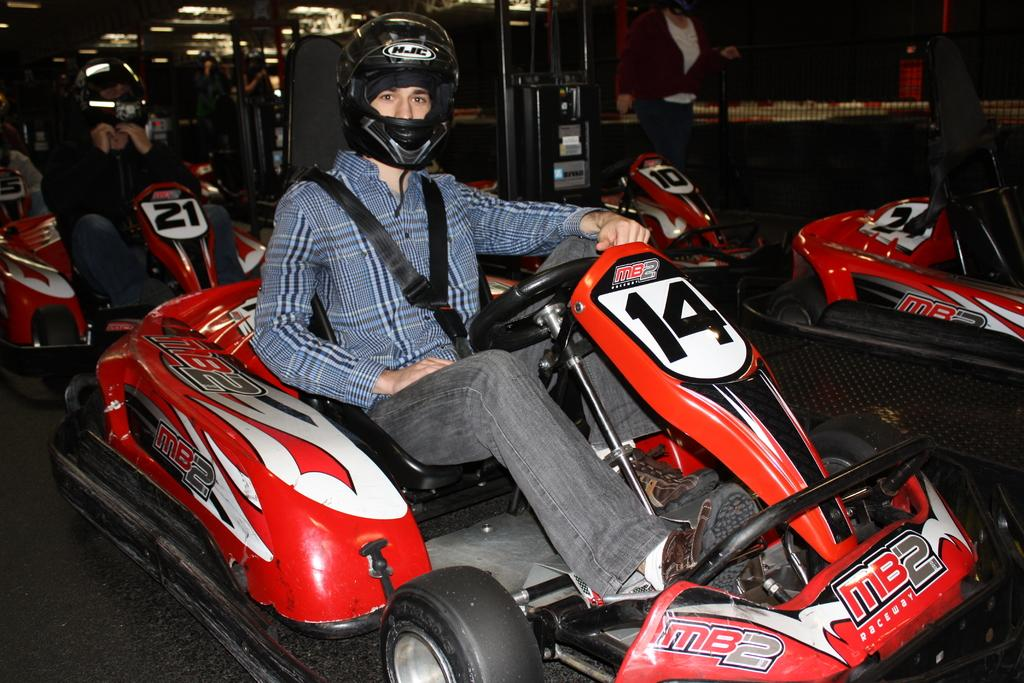helmet: (336, 11, 459, 169), (71, 56, 150, 129)
